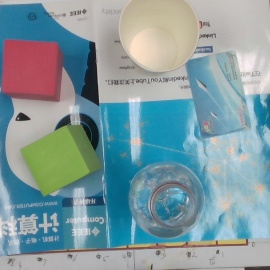bottle: (126, 163, 207, 237)
card: (185, 50, 252, 138)
cup: (116, 1, 197, 74)
